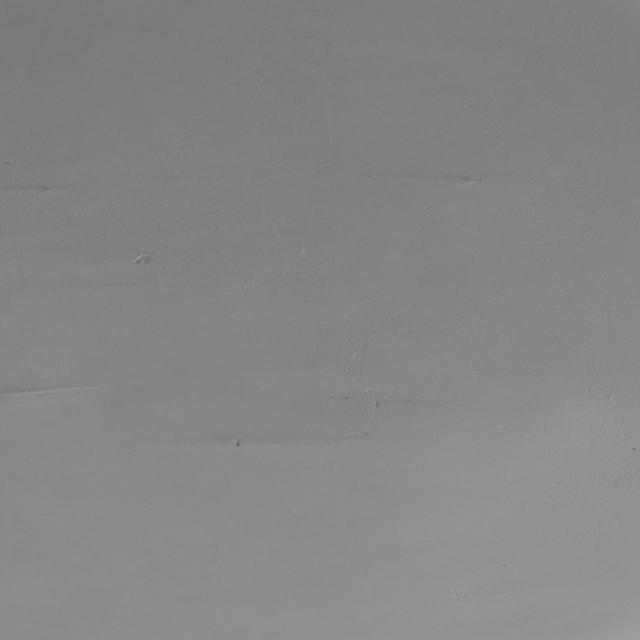rough and patchy surface: (6, 135, 568, 485)
